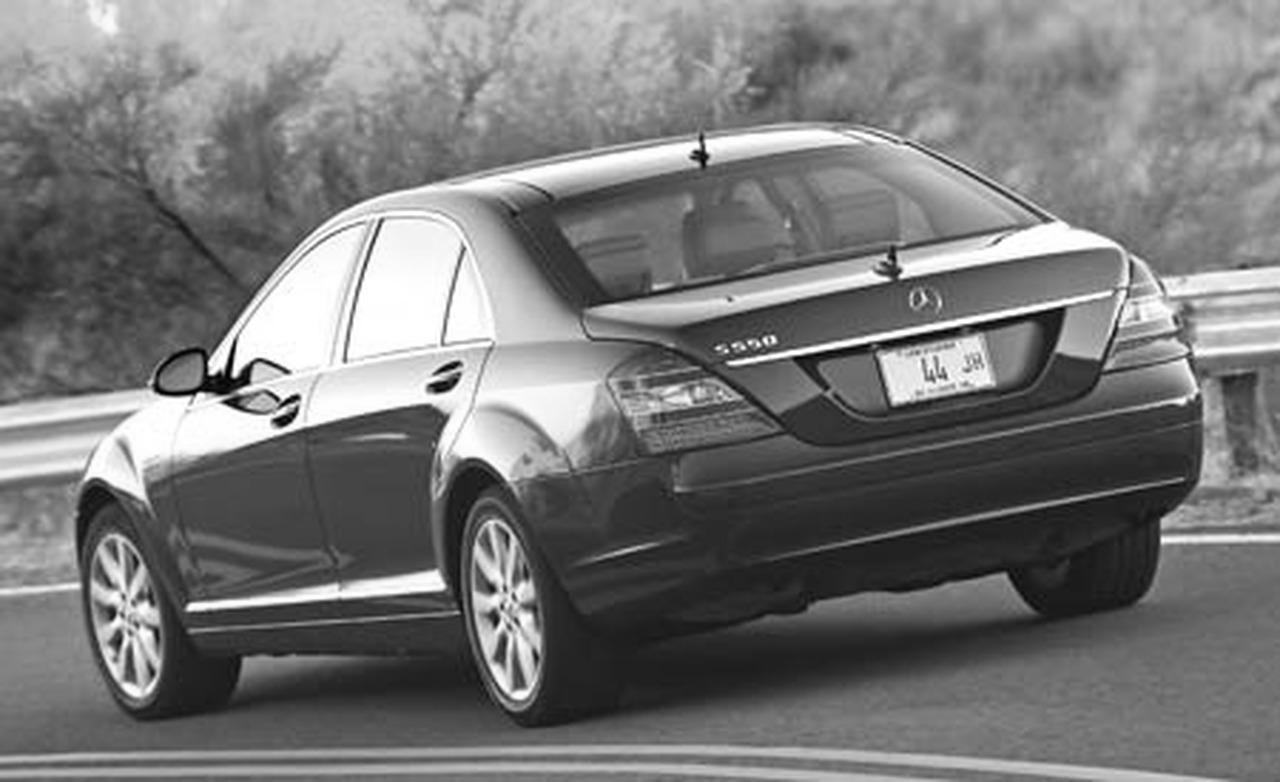car: (73, 122, 1205, 728)
